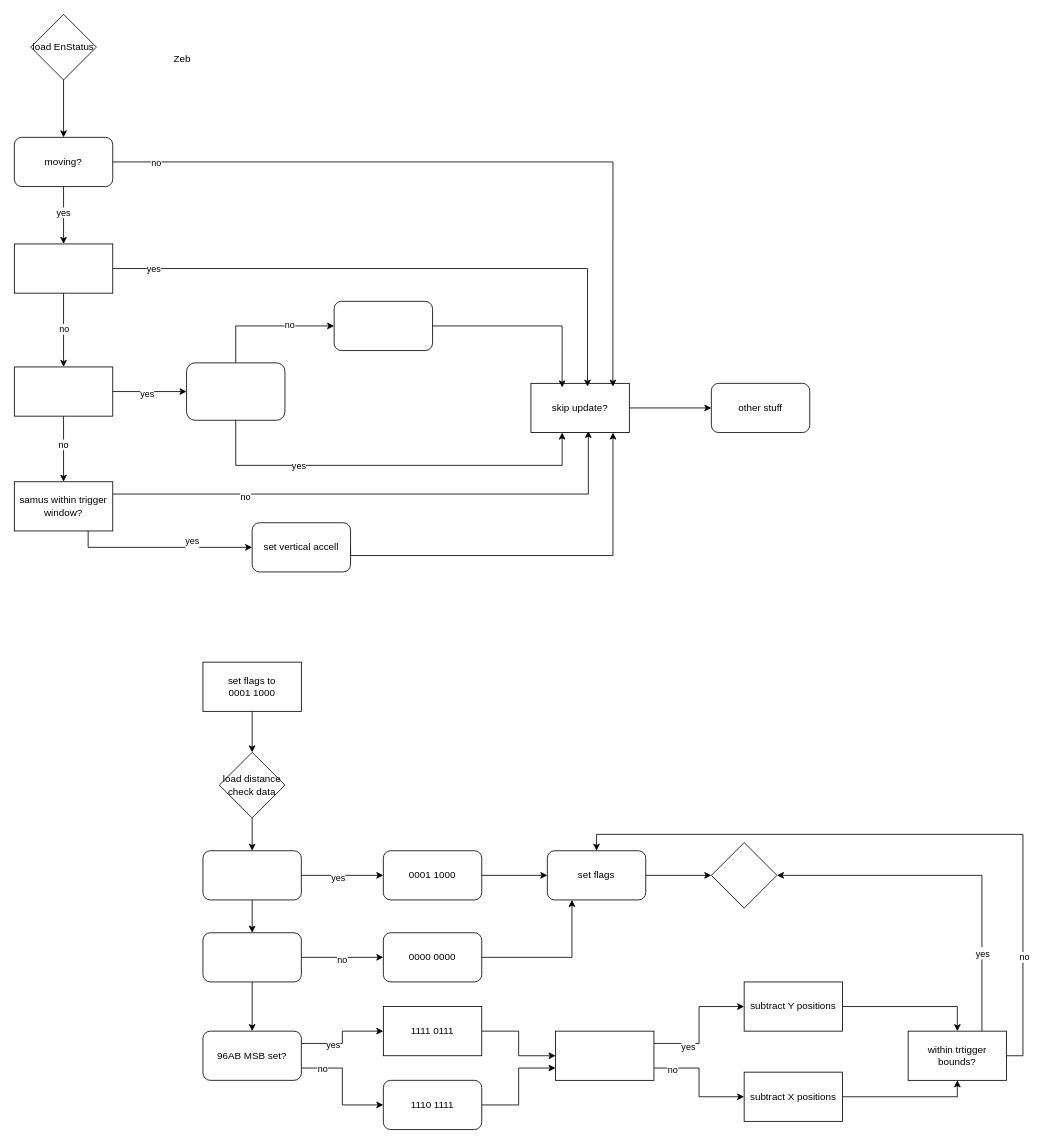
Image size: 1044x1144. Some labels were removed from this diagram. Each missing label, with the centre of its shape:
"check vertical?" goes at pixel 604 1055.
"force clear vert set hori speed" goes at pixel 383 326.
"hori speed?" goes at pixel 63 268.
"is 0?" goes at pixel 251 875.
"is enemy visible?" goes at pixel 251 957.
"neg vert speed?" goes at pixel 235 391.
"return" goes at pixel 744 875.
"vert accel?" goes at pixel 63 391.
